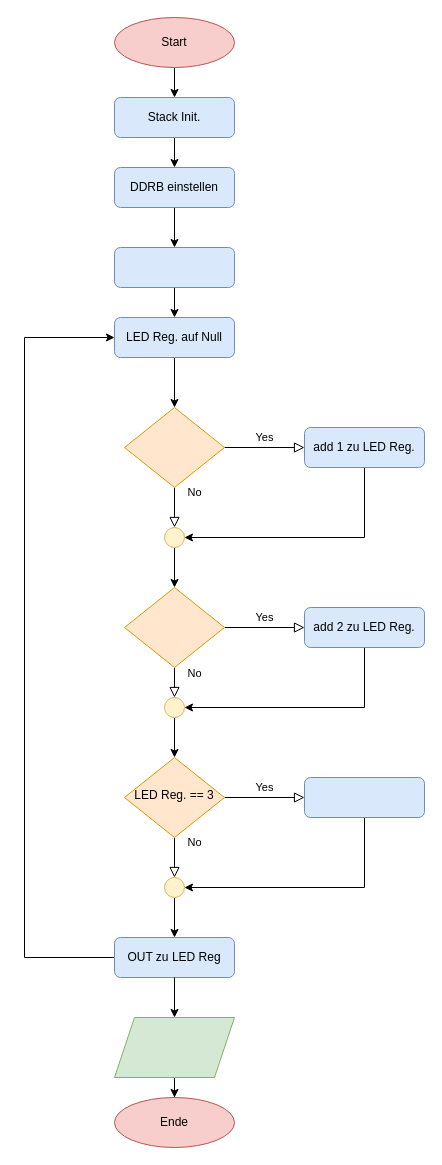
Some shapes in this 442 by 1165 pixel diagram are drawn without their labels. Each missing label, with the centre of its shape:
"BTN1 == 1" belongs at point 174,447.
"BTN2 == 1" belongs at point 174,627.
"LED Reg. zu 4" belongs at point 364,797.
"PORTB auf Null" belongs at point 174,267.
"Power OFF" belongs at point 174,1047.
